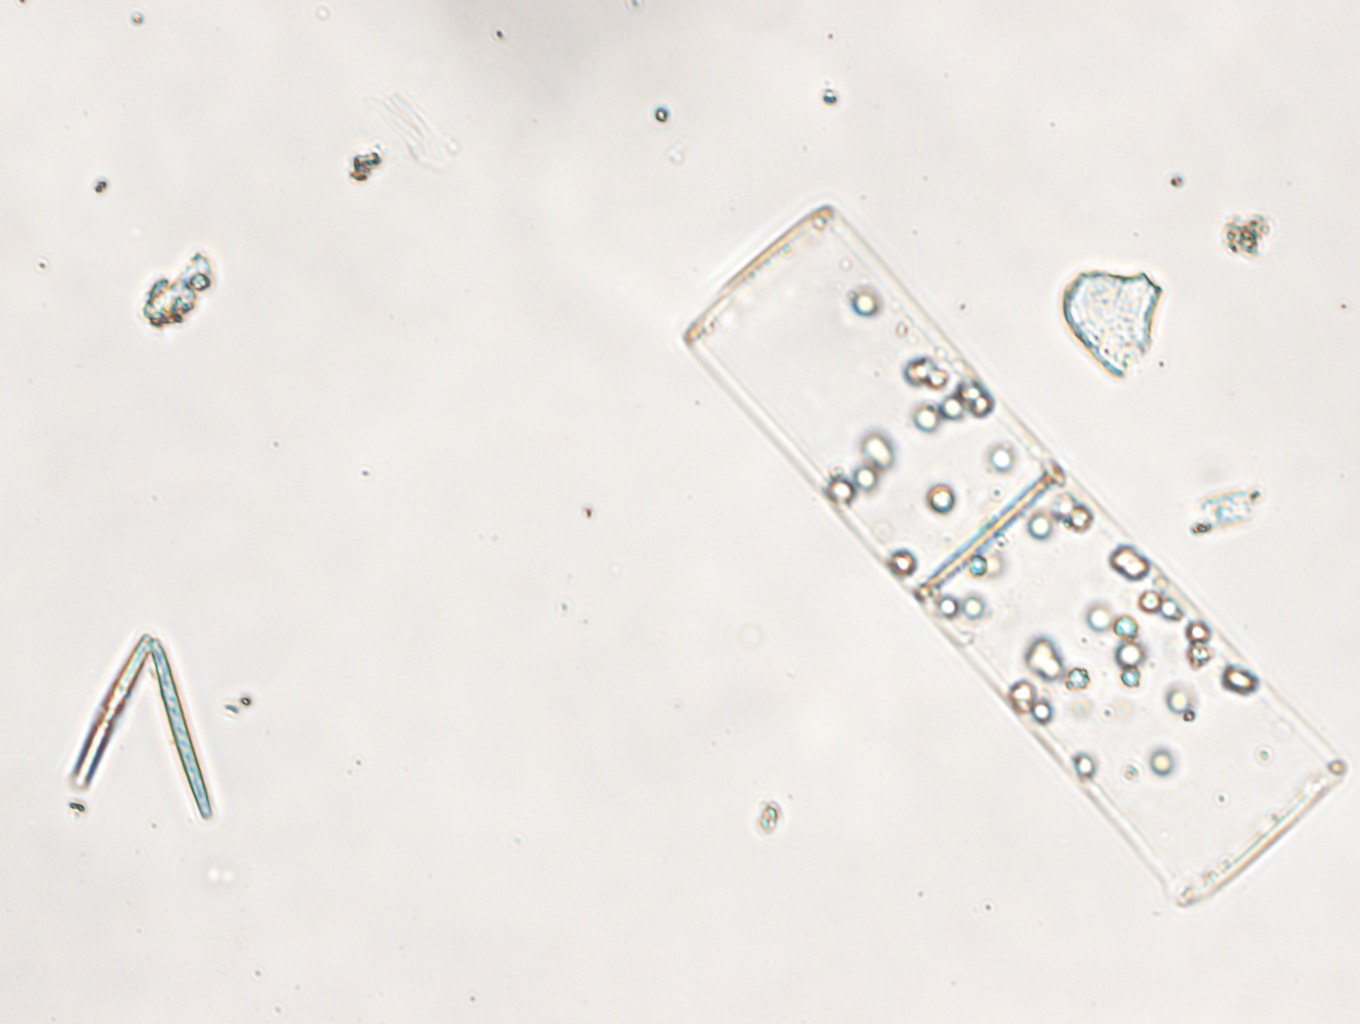guinardia flaccida: (682, 203, 1352, 913)
thalassionema nitzschioides: (68, 631, 215, 824)
